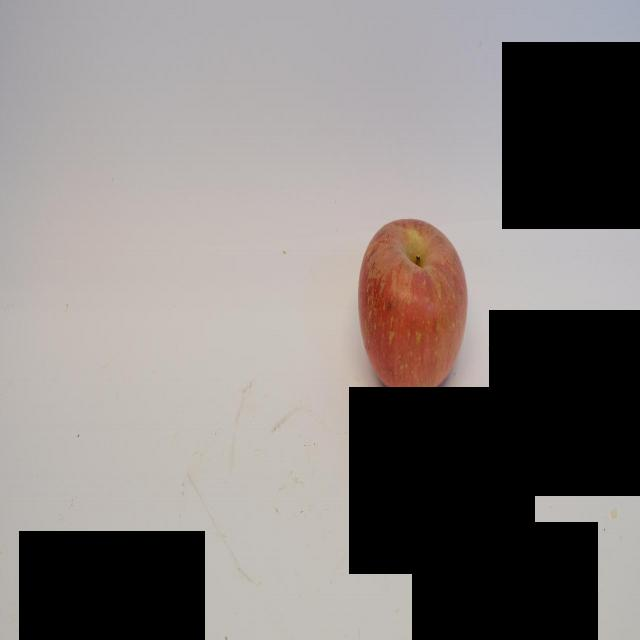apple: (364, 216, 472, 406)
